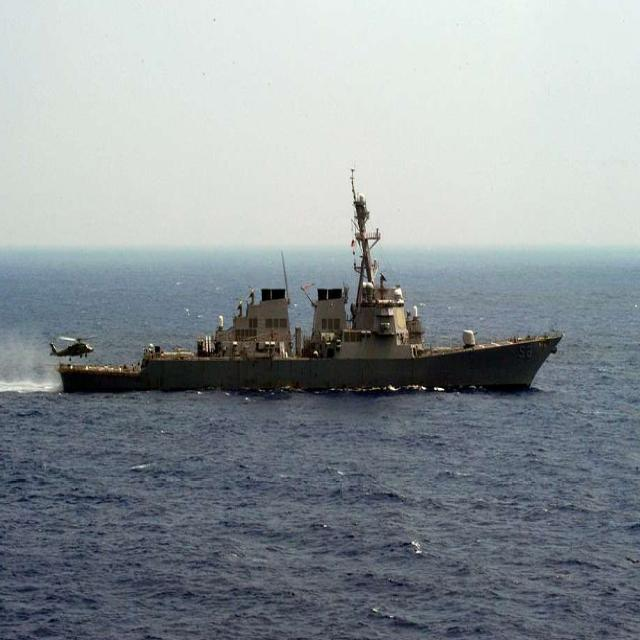navalvessels: (52, 146, 556, 406)
